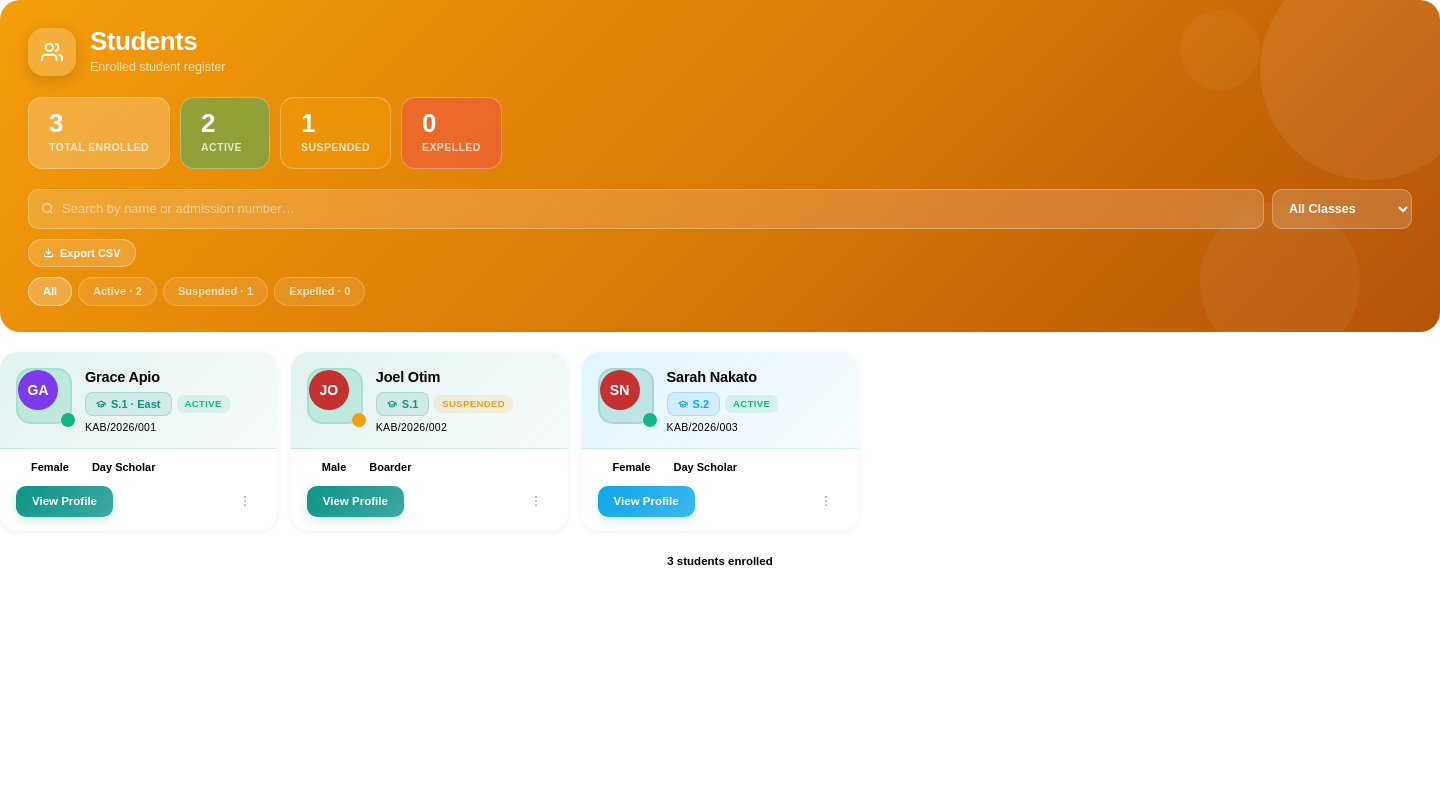
it: PrincipalStudentsPage › shows "Try clearing some filters" when search yields no results
In the field with placeholder "Search by name or admission number…": x=656, y=209 x1=62 y1=199 x2=1251 y2=218, type "zzz-no-match"
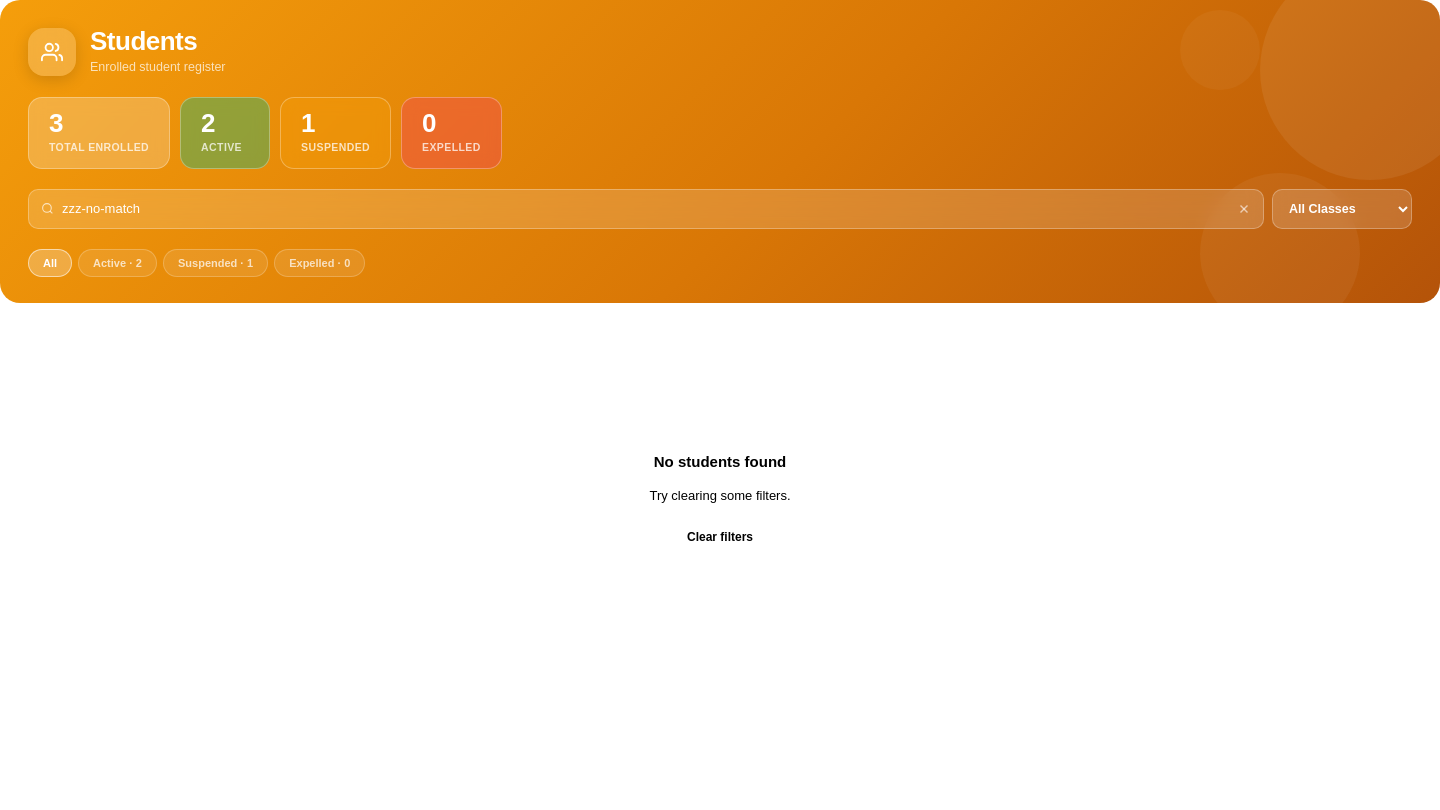
Check: the text "Try clearing some filters." is shown, box x1=649 y1=486 x2=790 y2=505
